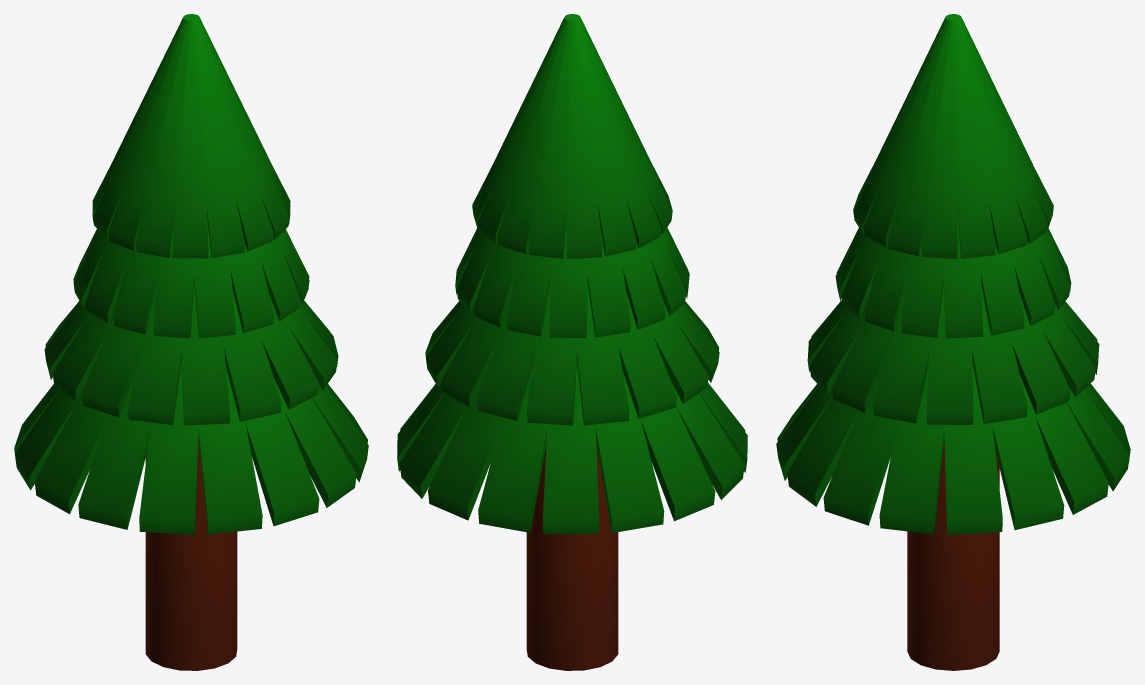
Rendered from TreeGreen_V2 (1).fbx.
3 renders of one model, left to right at view 1: azimuth 30°, elevation 25°; view 2: azimuth 150°, elevation 25°; view 3: azimuth 270°, elevation 25°, orthographic.
Visible parts, largest first — view 1: Cylinder; view 2: Cylinder; view 3: Cylinder.
Boxes of the visible parts, left/top/right/bottom form: Cylinder: left=14, top=14, right=368, bottom=670; Cylinder: left=397, top=14, right=747, bottom=670; Cylinder: left=776, top=14, right=1130, bottom=670.
Size of the model in its own units: 229 by 451 by 229.
